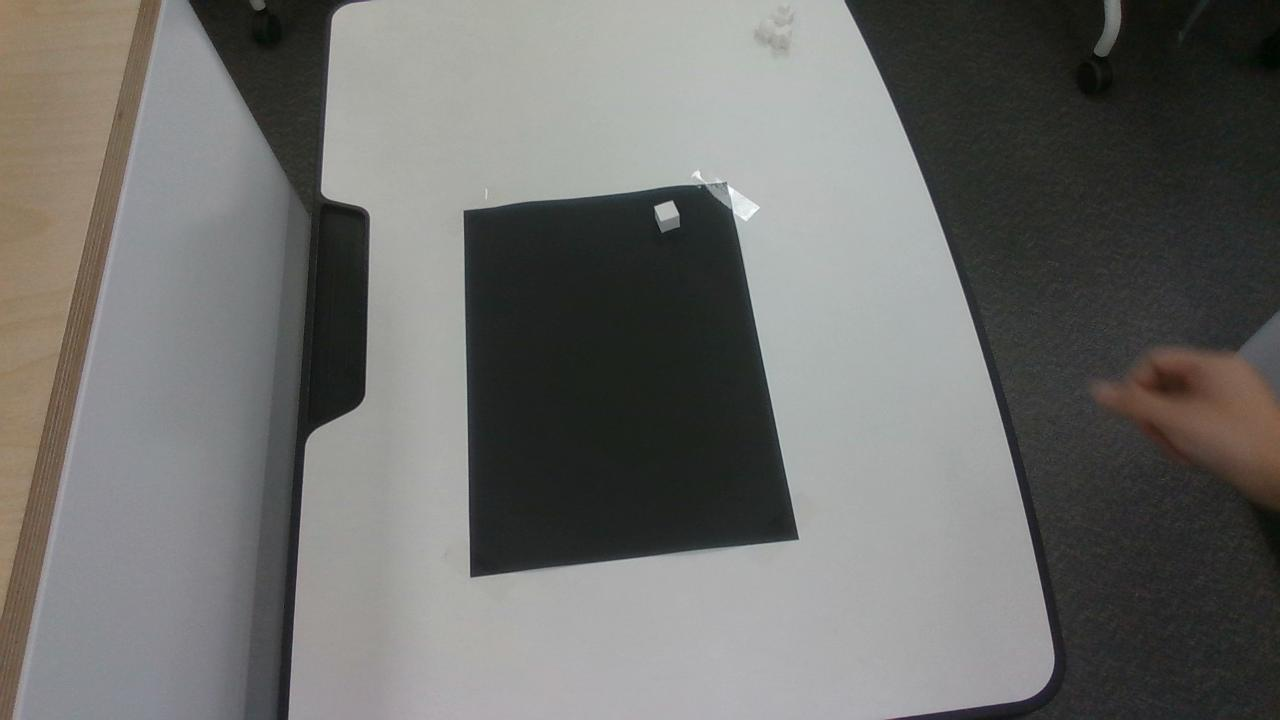cube: (654, 201, 679, 232)
